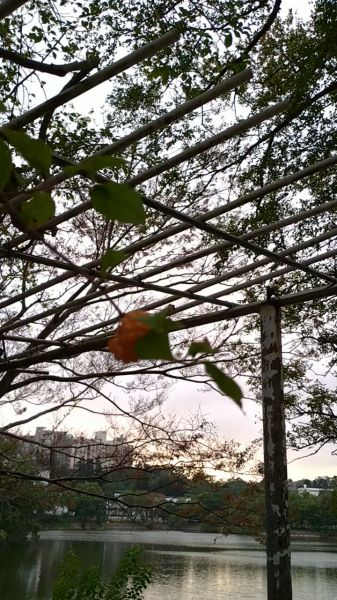eggs: (103, 304, 159, 366)
